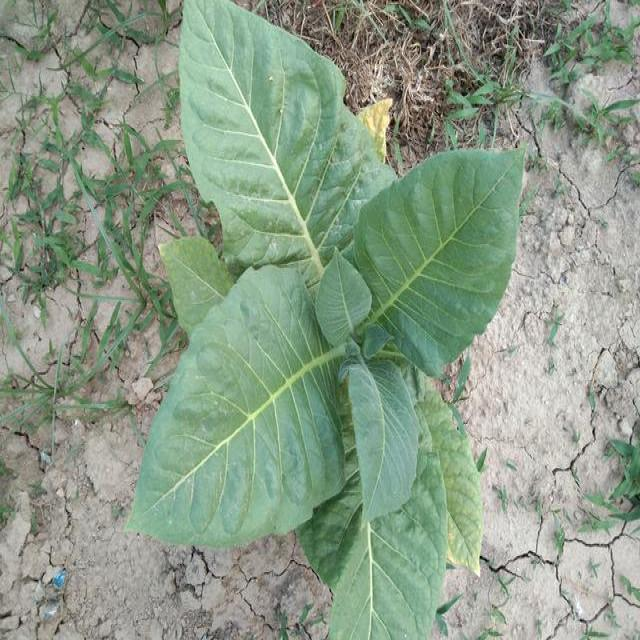crop: (142, 0, 520, 640)
